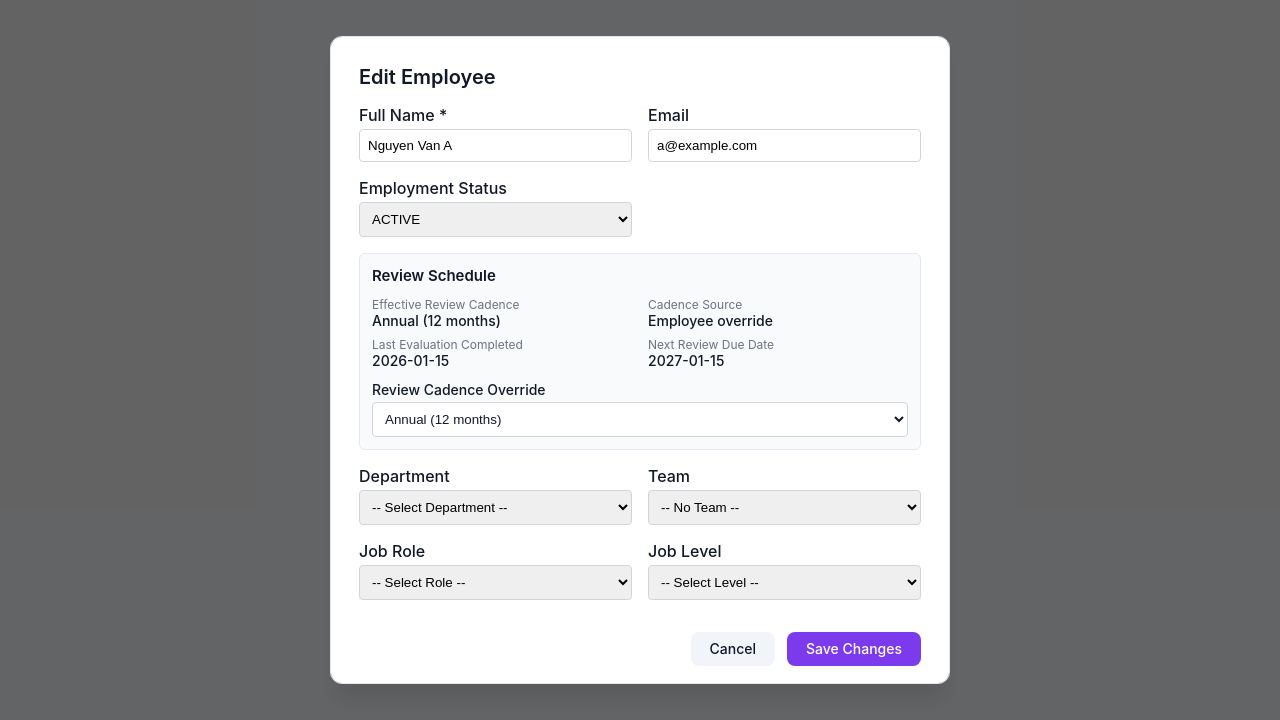
Test: Employee review schedule (frontend) › TC63 successful override invalidates employee, cadence and review-due keys and shows the refetched due date
Select "Semi-annual (6 months)" in the dropdown labelled "Review Cadence Override" at (640, 420), box x1=372 y1=402 x2=908 y2=437
(page scrolled)
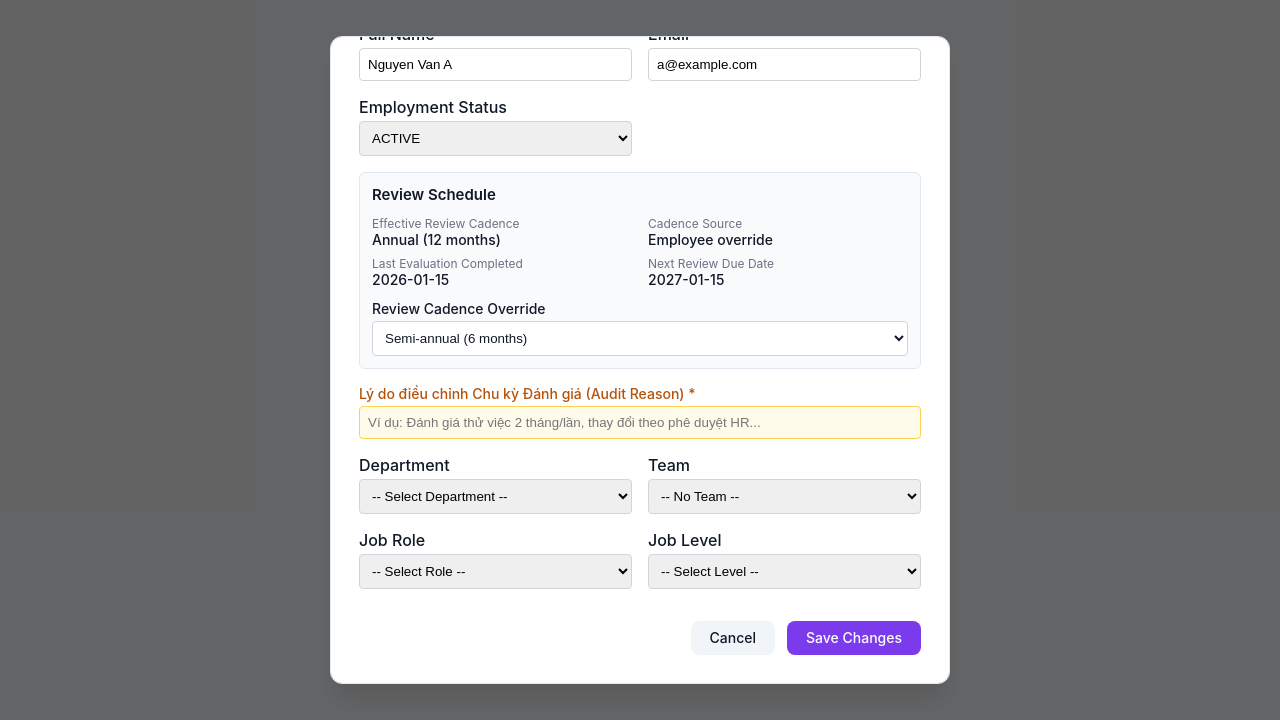
Click the button "Save Changes" at (854, 638), box x1=787 y1=621 x2=921 y2=655
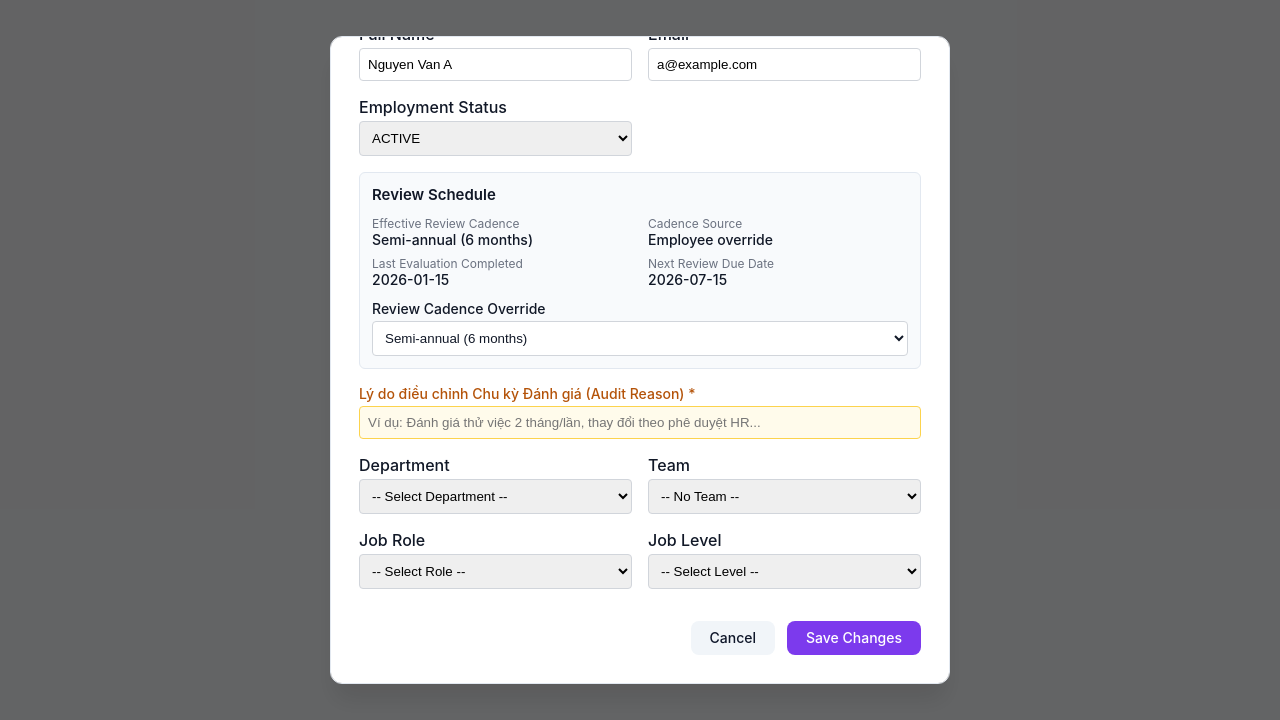
Check: the text with test id "next-review-due-date-value" reads "2026-07-15", box x1=648 y1=271 x2=727 y2=288
Check: the text with test id "effective-cadence-value" reads "Semi-annual (6 months)", box x1=372 y1=231 x2=533 y2=248
